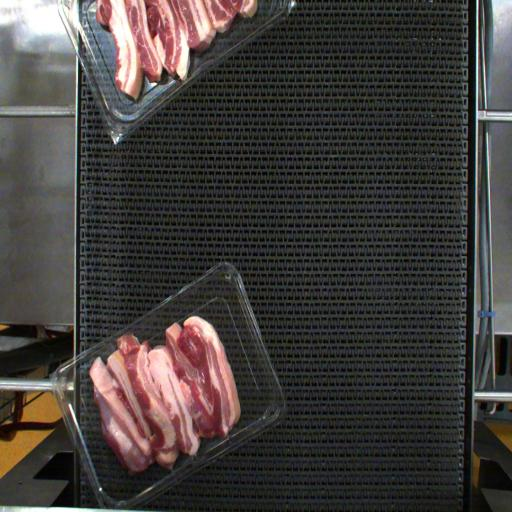packaging-error: (112, 325, 138, 350)
twisted-meat: (92, 356, 144, 470)
